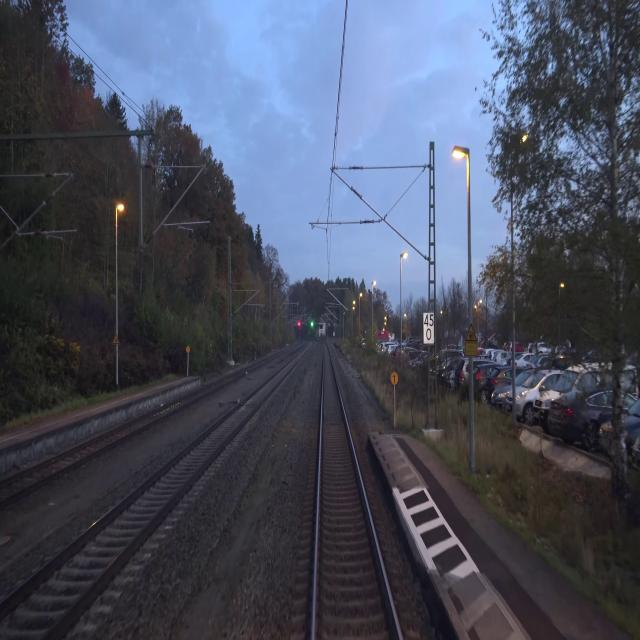rail-track: (0, 360, 295, 639), (316, 345, 398, 639), (0, 393, 197, 497)
